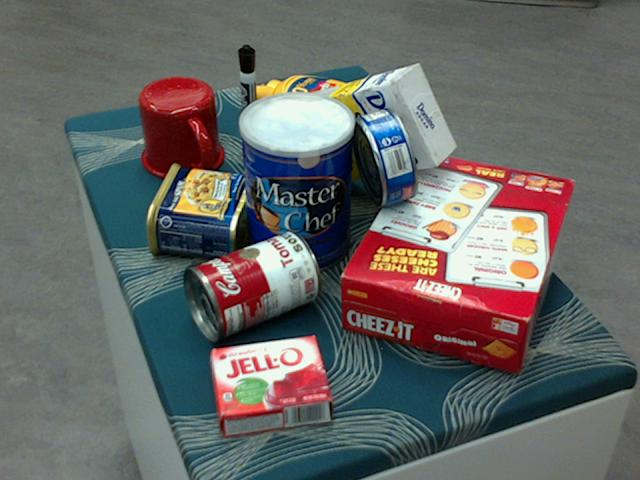cracker_box: (338, 151, 574, 372)
gelatin_box: (209, 335, 333, 435)
large_marker: (237, 44, 259, 147)
master_chef_can: (238, 93, 353, 277)
mug: (138, 76, 225, 180)
mustard_bottle: (250, 74, 417, 160)
potted_meat_can: (145, 163, 255, 258)
sugar_box: (274, 64, 455, 184)
tomato_soup_can: (181, 231, 319, 339)
tuna_fish_can: (351, 106, 418, 204)
